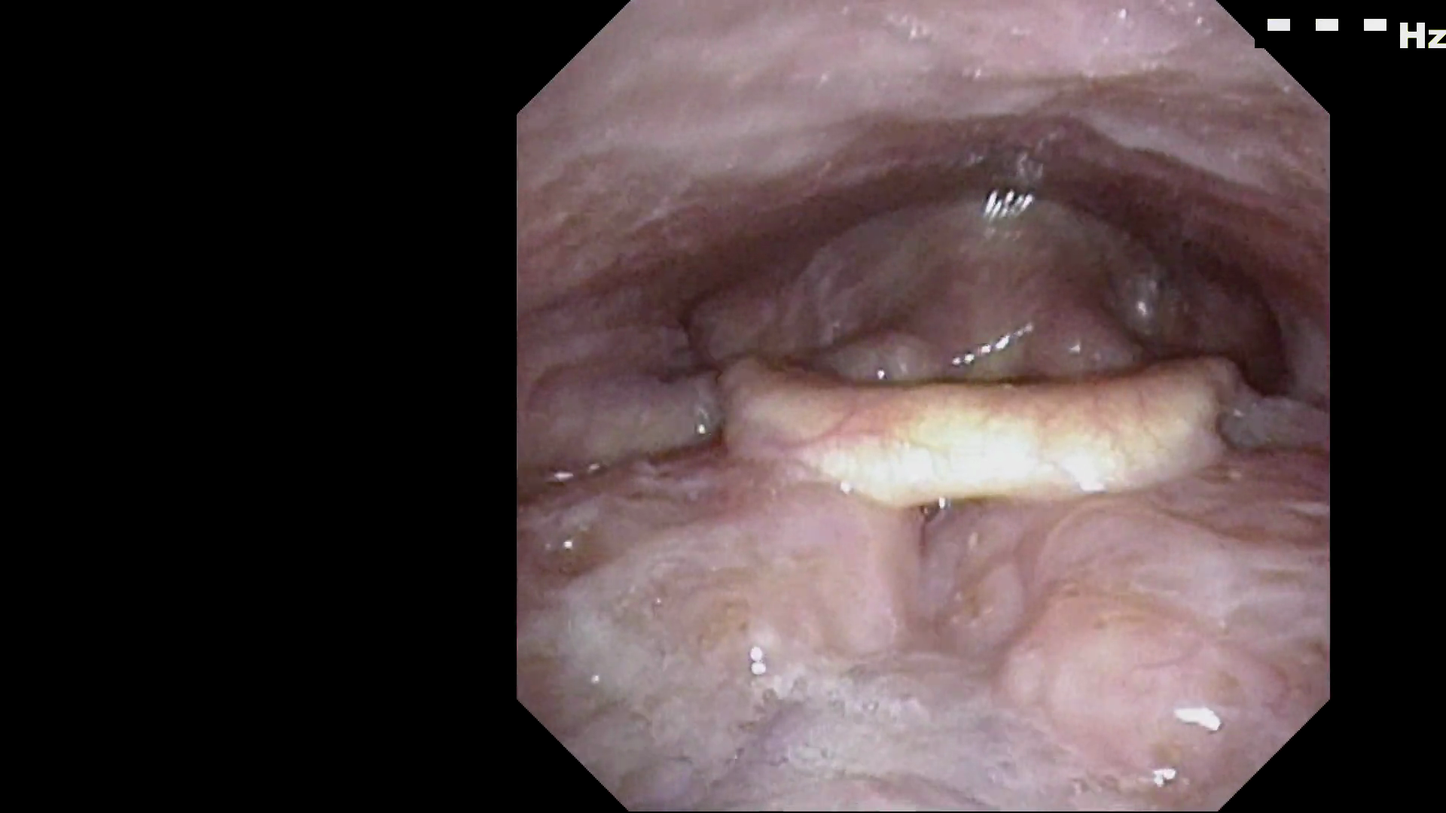epiglottis: (709, 331, 1281, 585)
trachea: (941, 347, 1059, 471)
